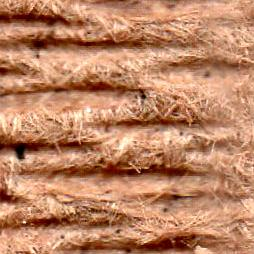egg: (14, 145, 24, 158)
